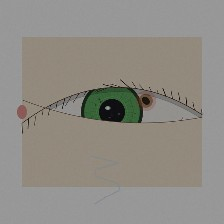foreign_body_visible: (100, 129, 135, 157)
